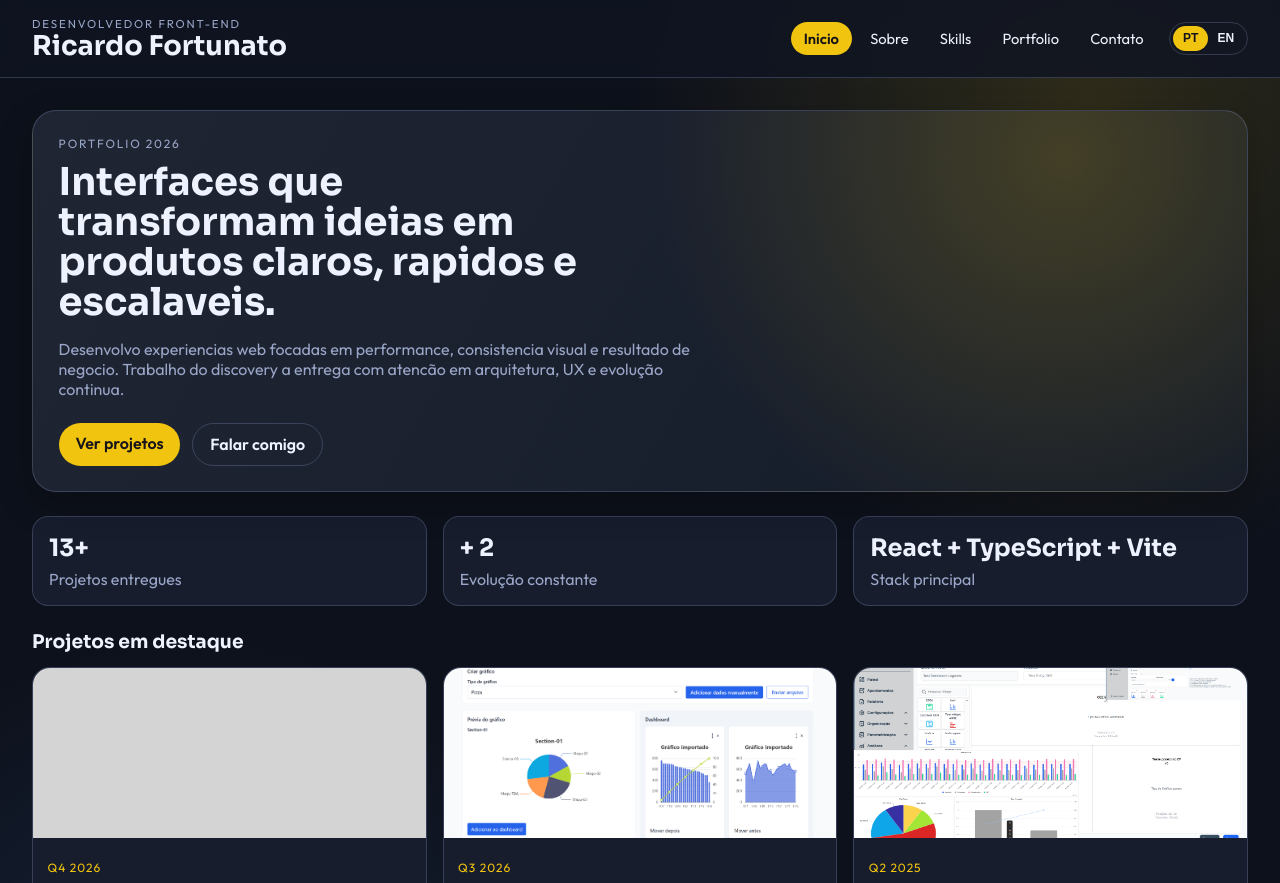
Test case: Portfolio Routes - Dynamic Navigation › Should navigate to the correct page when clicking on "{}" link
Click the link "Contato". click: click(1117, 38)
box: [1090,29,1144,48]
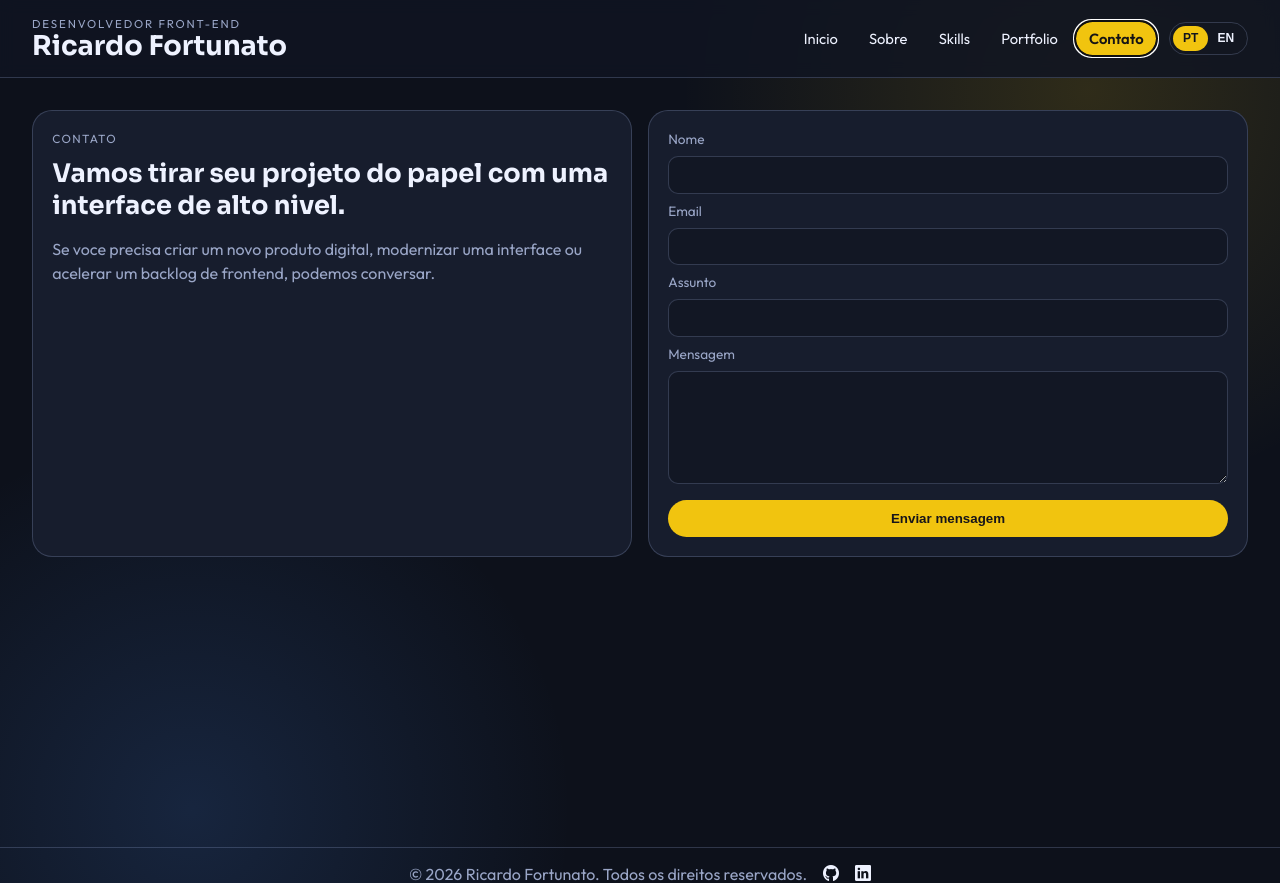
Now the heading "Vamos tirar seu projeto" is shown, box [52,157,612,221]
